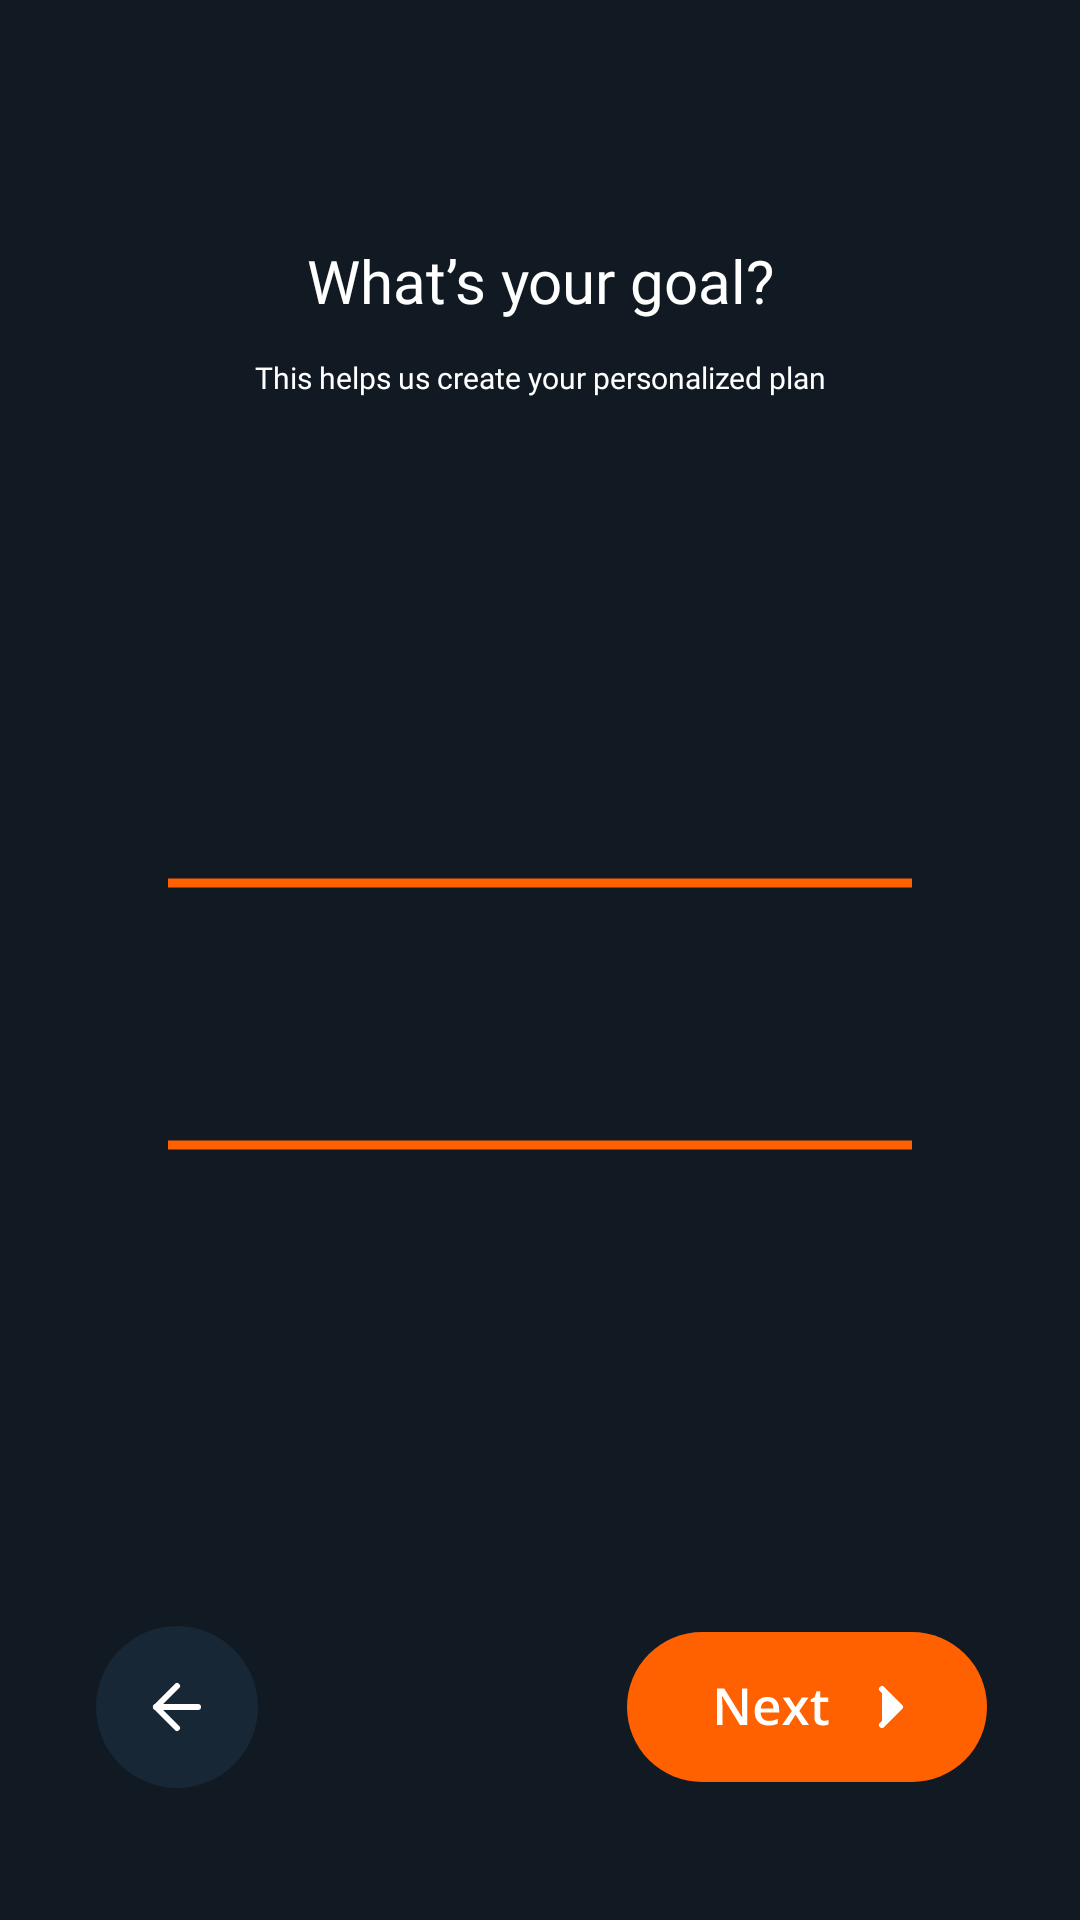

Icons on this 1080px×1920px Android screen, each with its box as (x1, y1, x2, y2):
back: (96, 1626, 258, 1788)
